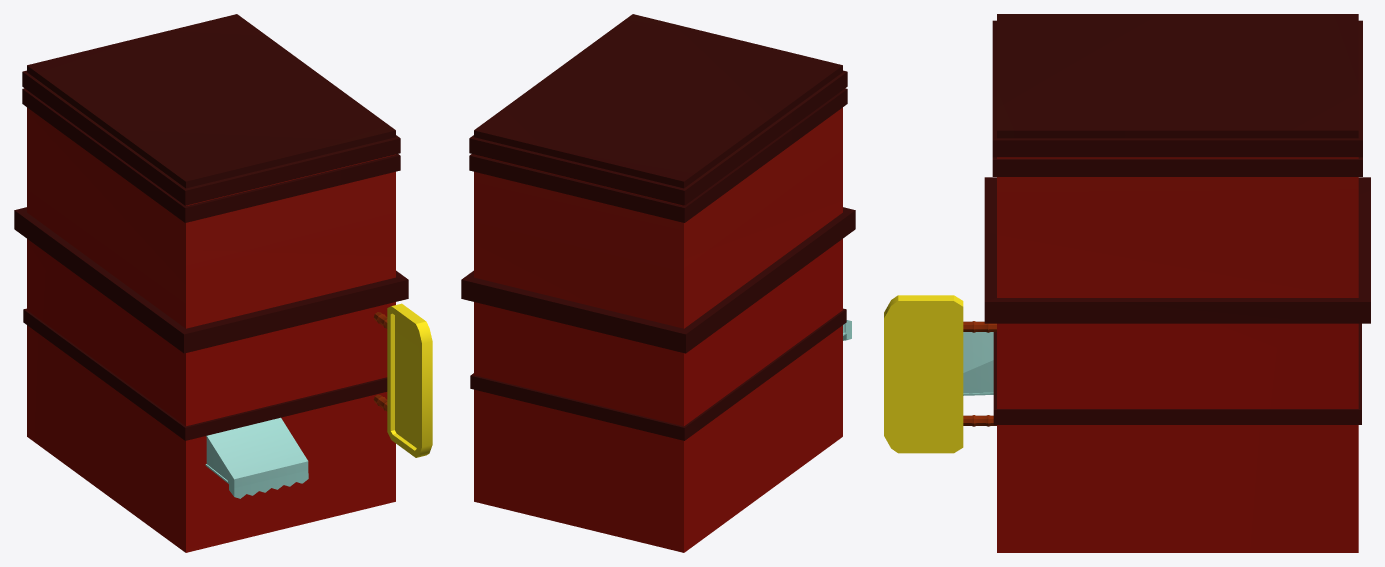
Rendered from Hotel_3.fbx.
3 views of the same model, side by side, from view 1: azimuth 30°, elevation 25°; view 2: azimuth 150°, elevation 25°; view 3: azimuth 270°, elevation 25° (orthographic). The views are drawn at different scales.
Visible parts, largest first — view 1: Predio, PlacaHotel, Marquise; view 2: Predio; view 3: Predio, PlacaHotel, Marquise.
Part boxes in pixels (x1=…): Predio: x1=14, y1=14, x2=408, y2=552; PlacaHotel: x1=373, y1=303, x2=432, y2=457; Marquise: x1=205, y1=417, x2=308, y2=498; Predio: x1=461, y1=14, x2=855, y2=552; Predio: x1=984, y1=14, x2=1370, y2=552; PlacaHotel: x1=884, y1=295, x2=996, y2=453; Marquise: x1=963, y1=332, x2=993, y2=395.
Size of the model in its own units: 351 by 554 by 579.
